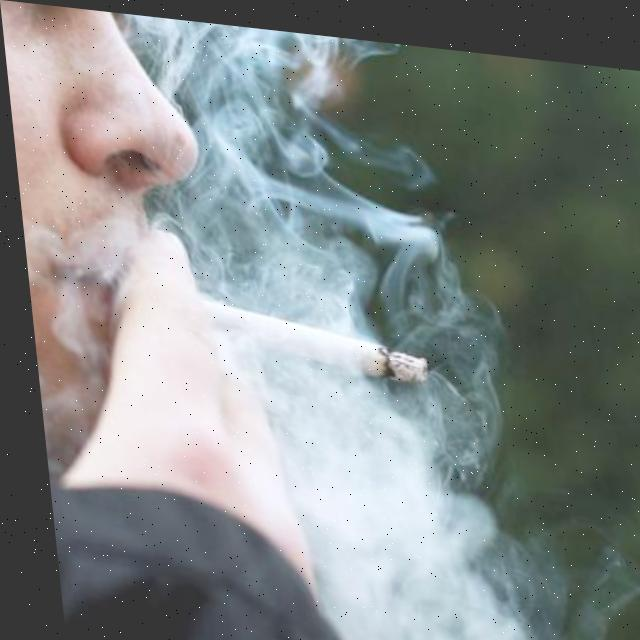cigarette: (202, 294, 423, 382)
